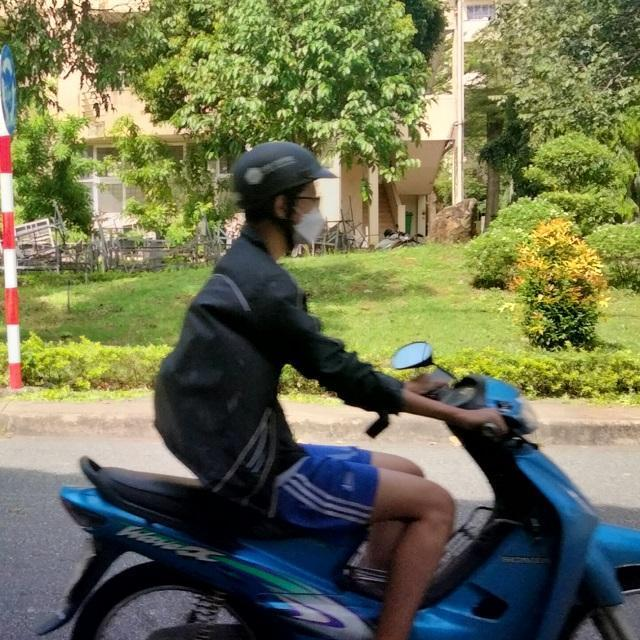Helmet: (228, 136, 340, 264)
